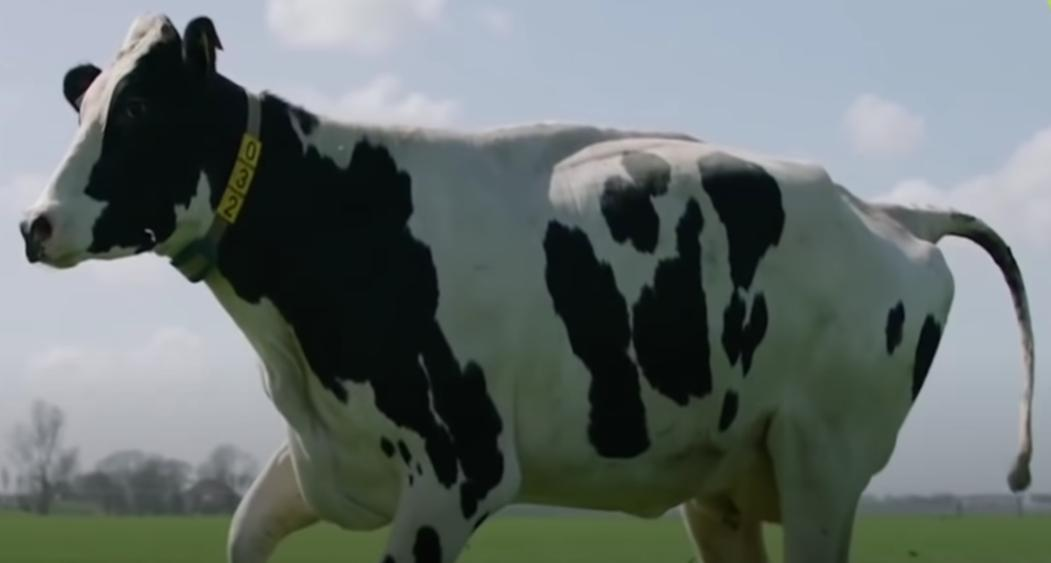cow: (17, 9, 1037, 563)
